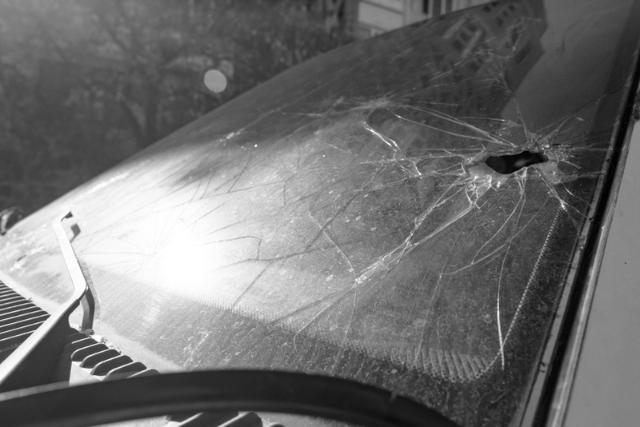Windshield: (194, 76, 584, 362)
